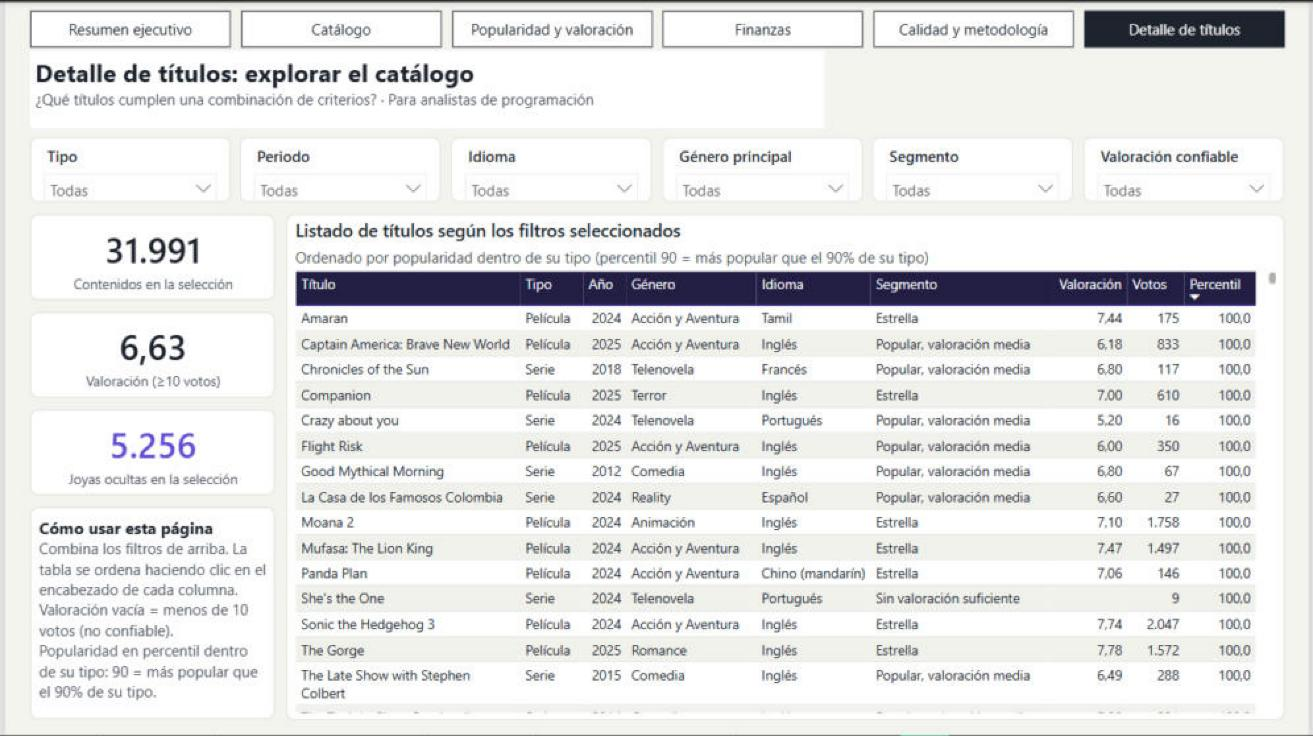

The dashboard page shown, as its layout file describes it:
{"tool":"powerbi","page":{"name":"Detalle de títulos","canvas":[1280,720],"ordinal":5},"visuals":[{"type":"textbox","box":[24,48,780,76],"z":1000},{"type":"pageNavigator","box":[24,8,1232,36],"z":2000},{"type":"slicer","fields":{"Values":["Catalogo.tipo"]},"box":[24,132,197,64],"z":3000},{"type":"slicer","fields":{"Values":["Catalogo.periodo"]},"box":[231,132,197,64],"z":4000},{"type":"slicer","fields":{"Values":["Catalogo.idioma"]},"box":[438,132,197,64],"z":5000},{"type":"slicer","fields":{"Values":["Catalogo.genero_principal"]},"box":[645,132,197,64],"z":6000},{"type":"slicer","fields":{"Values":["Catalogo.segmento"]},"box":[852,132,197,64],"z":7000},{"type":"slicer","fields":{"Values":["Catalogo.valoracion_confiable"]},"box":[1059,132,197,64],"z":8000},{"type":"card","fields":{"Values":["Catalogo.Contenidos"]},"box":[24,208,240,84],"z":9000},{"type":"card","fields":{"Values":["Catalogo.Valoración promedio"]},"box":[24,304,240,84],"z":10000},{"type":"card","fields":{"Values":["Catalogo.Joyas ocultas"]},"box":[24,400,240,84],"z":11000},{"type":"textbox","box":[24,496,240,208],"z":12000},{"type":"tableEx","title":"Listado de títulos según los filtros seleccionados","fields":{"Values":["Catalogo.titulo","Catalogo.tipo","Catalogo.anio_estreno","Catalogo.genero_principal","Catalogo.idioma","Catalogo.segmento","Catalogo.valoracion_valida","Catalogo.votos","Catalogo.popularidad_percentil"]},"box":[276,208,980,496],"z":13000}]}

Visuals, with their boxes in screenshot pixels (x1, y1, x2, y2), scaled from the page's 1280x720 canvas onto the 1313x736 screenshot:
textbox: [x1=25, y1=49, x2=825, y2=127]
pageNavigator: [x1=25, y1=8, x2=1288, y2=45]
slicer - Catalogo.tipo: [x1=25, y1=135, x2=227, y2=200]
slicer - Catalogo.periodo: [x1=237, y1=135, x2=439, y2=200]
slicer - Catalogo.idioma: [x1=449, y1=135, x2=651, y2=200]
slicer - Catalogo.genero_principal: [x1=662, y1=135, x2=864, y2=200]
slicer - Catalogo.segmento: [x1=874, y1=135, x2=1076, y2=200]
slicer - Catalogo.valoracion_confiable: [x1=1086, y1=135, x2=1288, y2=200]
card - Catalogo.Contenidos: [x1=25, y1=213, x2=271, y2=298]
card - Catalogo.Valoración promedio: [x1=25, y1=311, x2=271, y2=397]
card - Catalogo.Joyas ocultas: [x1=25, y1=409, x2=271, y2=495]
textbox: [x1=25, y1=507, x2=271, y2=720]
"Listado de títulos según los filtros seleccionados" tableEx: [x1=283, y1=213, x2=1288, y2=720]
